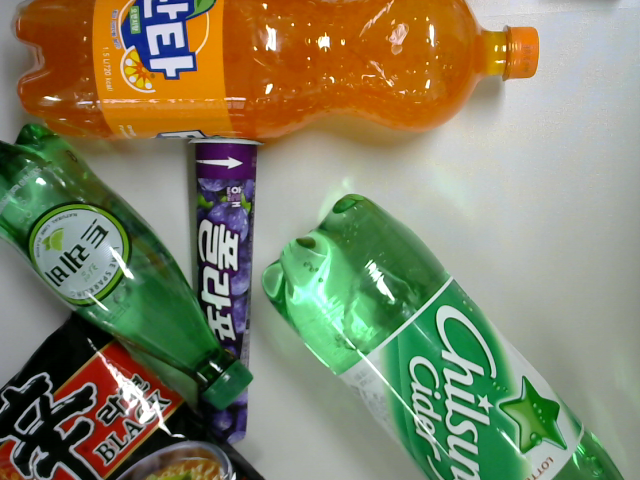Chilseong_Cider_1.5L: (261, 191, 640, 479)
Hwanta_Orange_1.5L: (1, 1, 545, 144)
Polapo_Grape: (182, 136, 262, 452)
Sinramen_Black: (1, 311, 265, 480)
Treviraim_500ml: (1, 122, 256, 417)
